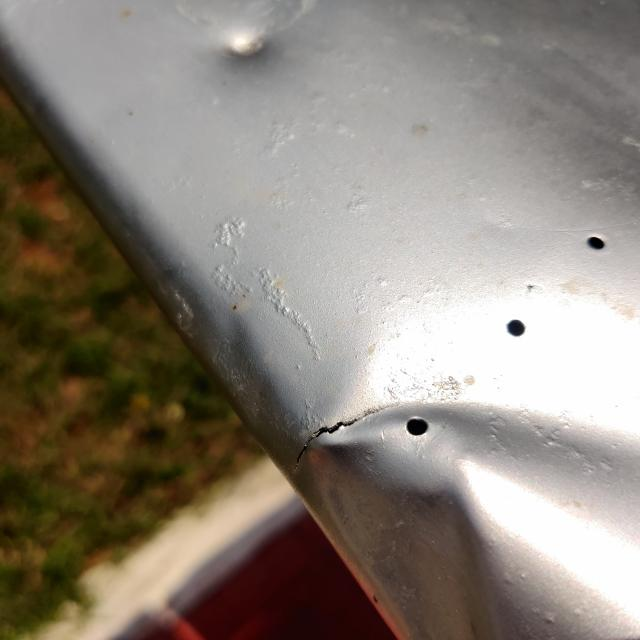crack: (275, 380, 416, 490)
dent: (251, 269, 640, 640), (194, 4, 305, 90)
